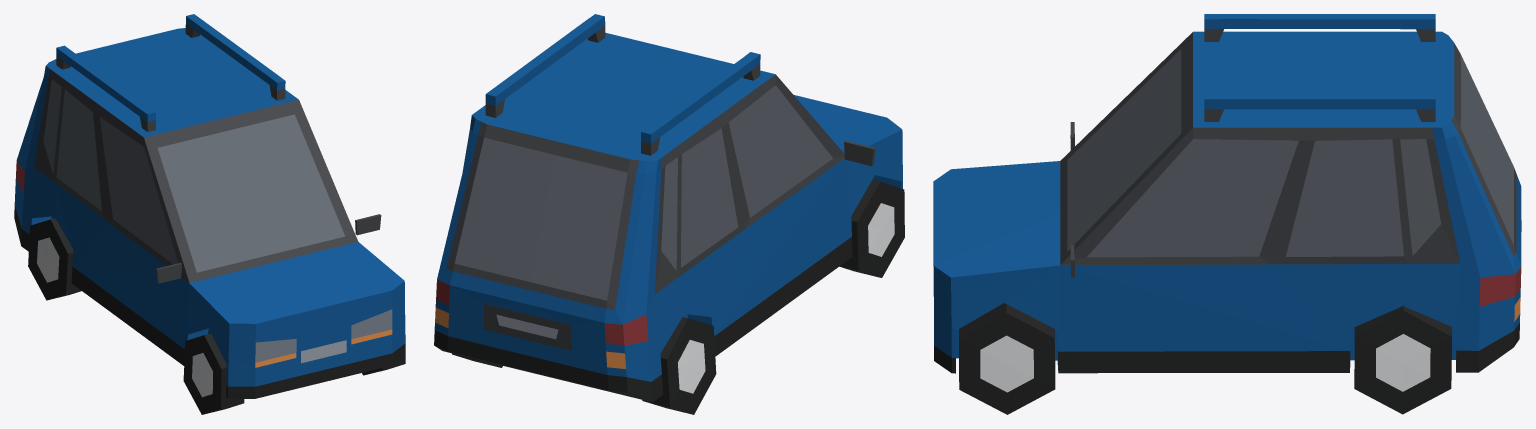
File: Vehicles_Suv.fbx
3 views of the same model, side by side, from view 1: azimuth 30°, elevation 25°; view 2: azimuth 150°, elevation 25°; view 3: azimuth 270°, elevation 25° (orthographic). The views are drawn at different scales.
Visible parts, largest first — view 1: Vehicles_Suv; view 2: Vehicles_Suv; view 3: Vehicles_Suv.
Boxes of the visible parts, bbox=[...] form: Vehicles_Suv: bbox=[14, 14, 405, 414]; Vehicles_Suv: bbox=[434, 14, 904, 414]; Vehicles_Suv: bbox=[933, 14, 1521, 414].
Size of the model in its own units: 217 by 221 by 390.
